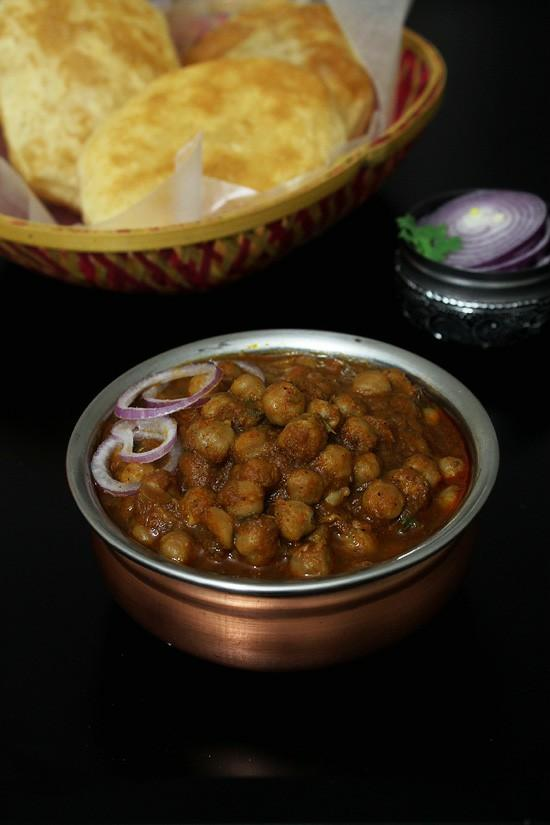Bhatura: (80, 60, 346, 228), (0, 0, 179, 211), (165, 0, 376, 141)
Chole: (89, 350, 473, 585)
